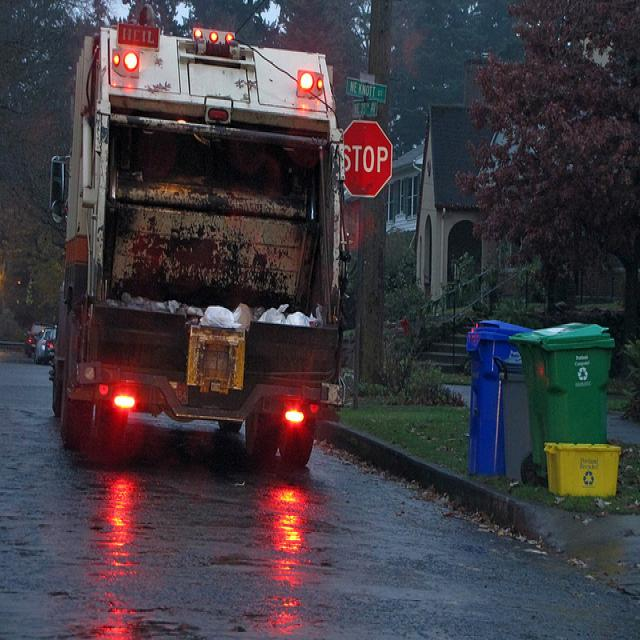Vehicle: (51, 20, 344, 463), (24, 321, 54, 357), (34, 328, 56, 366)
